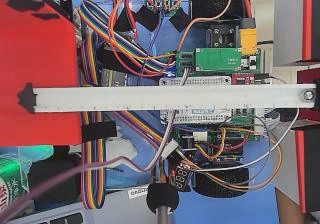ironball: (301, 89, 314, 102)
